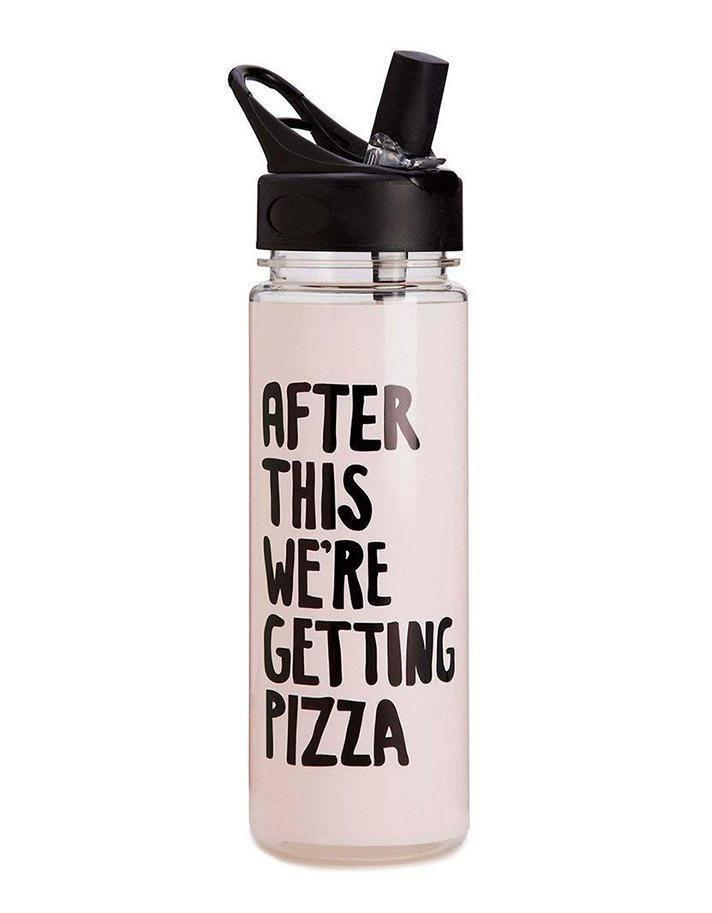gym bottle: (231, 47, 477, 871)
